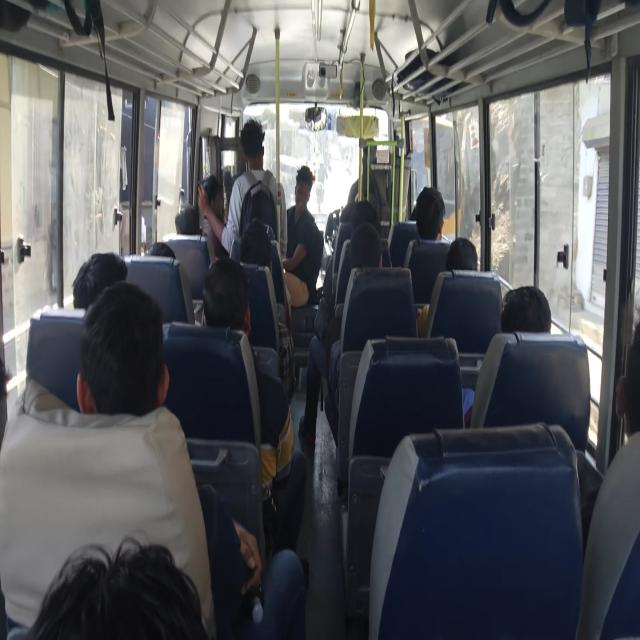person: (56, 532, 207, 640), (102, 291, 176, 457), (508, 291, 588, 424), (76, 242, 144, 324), (211, 269, 248, 334), (444, 228, 491, 276), (617, 344, 640, 441), (419, 182, 445, 255), (201, 165, 234, 222), (353, 219, 392, 267), (233, 226, 271, 271), (238, 128, 270, 177), (163, 210, 205, 247), (136, 227, 169, 274), (290, 169, 319, 213), (252, 208, 277, 255), (400, 193, 431, 225), (350, 193, 370, 223)
